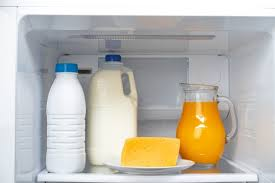milk: (93, 51, 137, 161), (48, 55, 88, 167)
